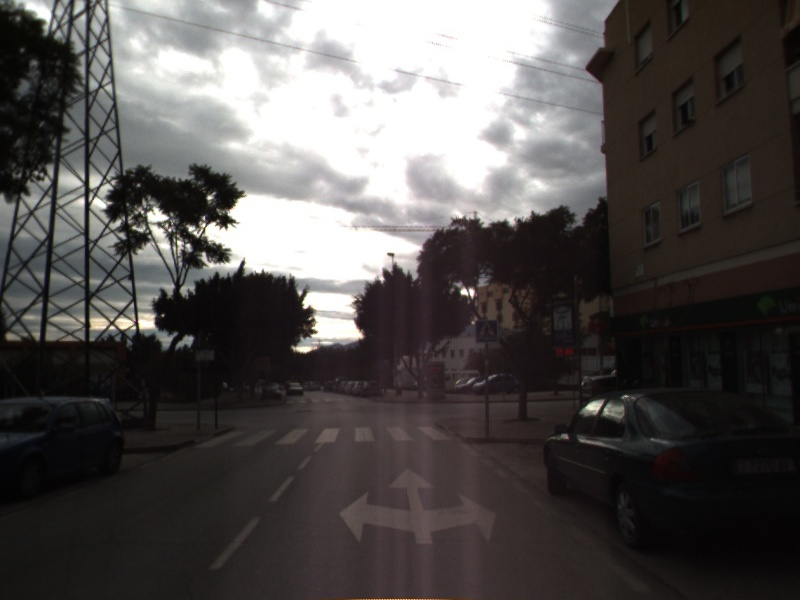STRAIGHT_LEFT_RIGHT: (337, 466, 499, 547)
